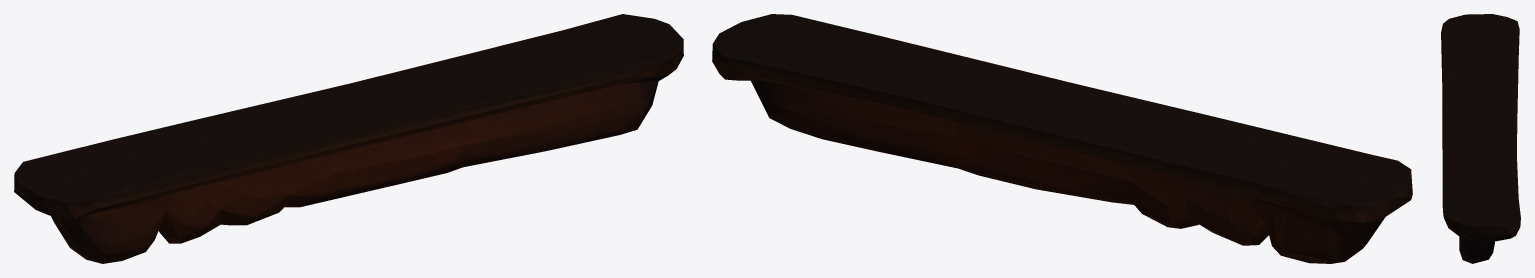
The picture shows the model from 3 angles, left to right: view 1: azimuth 30°, elevation 25°; view 2: azimuth 150°, elevation 25°; view 3: azimuth 270°, elevation 25°; orthographic projection. The views are drawn at different scales.
Visible parts, largest first — view 1: geometry_0.041_Baked; view 2: geometry_0.041_Baked; view 3: geometry_0.041_Baked.
Boxes of the visible parts, left/top/right/bottom form: geometry_0.041_Baked: left=14, top=14, right=683, bottom=263; geometry_0.041_Baked: left=712, top=14, right=1412, bottom=263; geometry_0.041_Baked: left=1441, top=14, right=1520, bottom=263.
Size of the model in its own units: 40.03 by 5.39 by 6.36.
